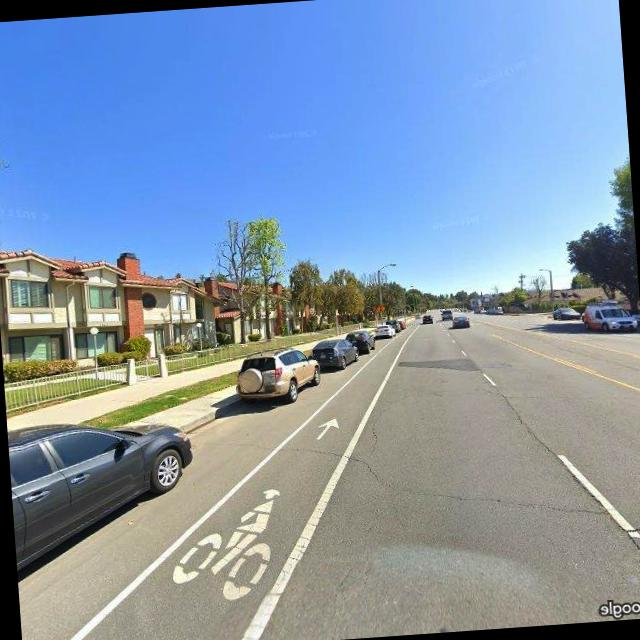crack: (207, 415, 603, 541), (494, 373, 640, 573), (366, 412, 384, 454)
